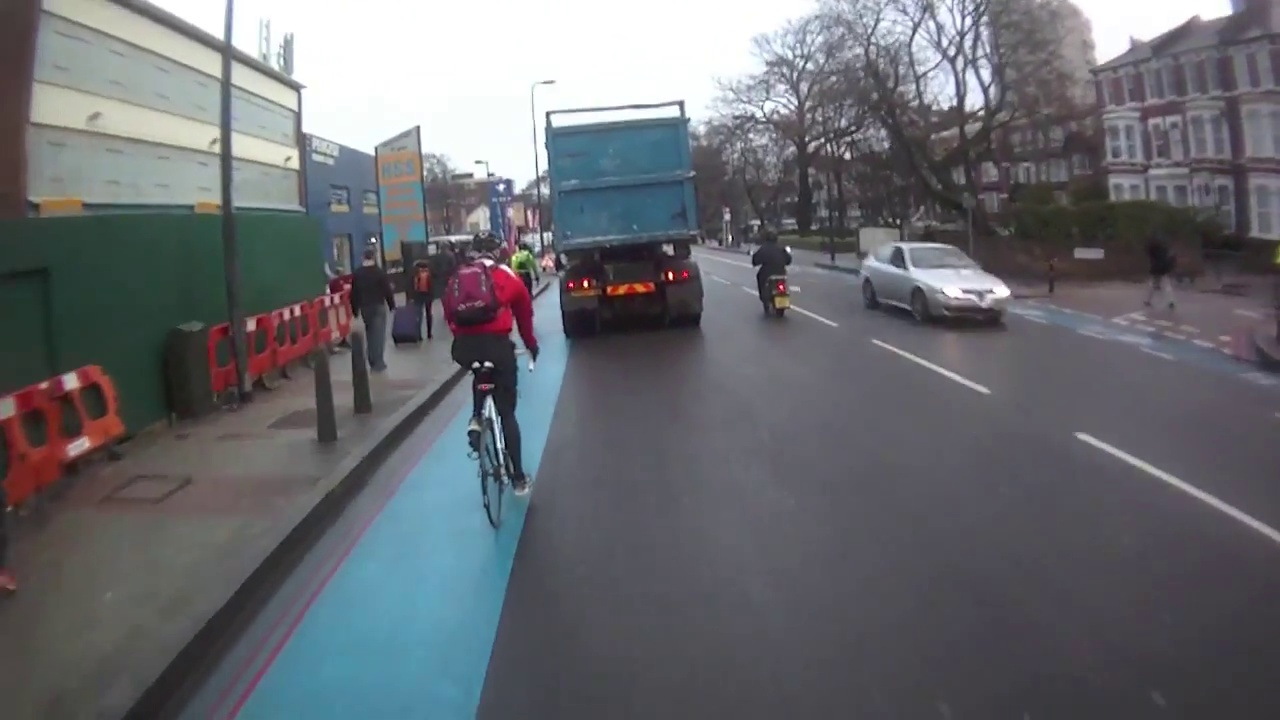cyclist_back: (443, 233, 541, 524), (749, 222, 797, 325)
